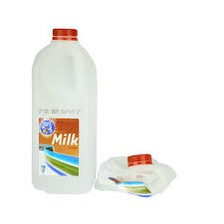bottle: (26, 25, 99, 199), (93, 150, 183, 197)
